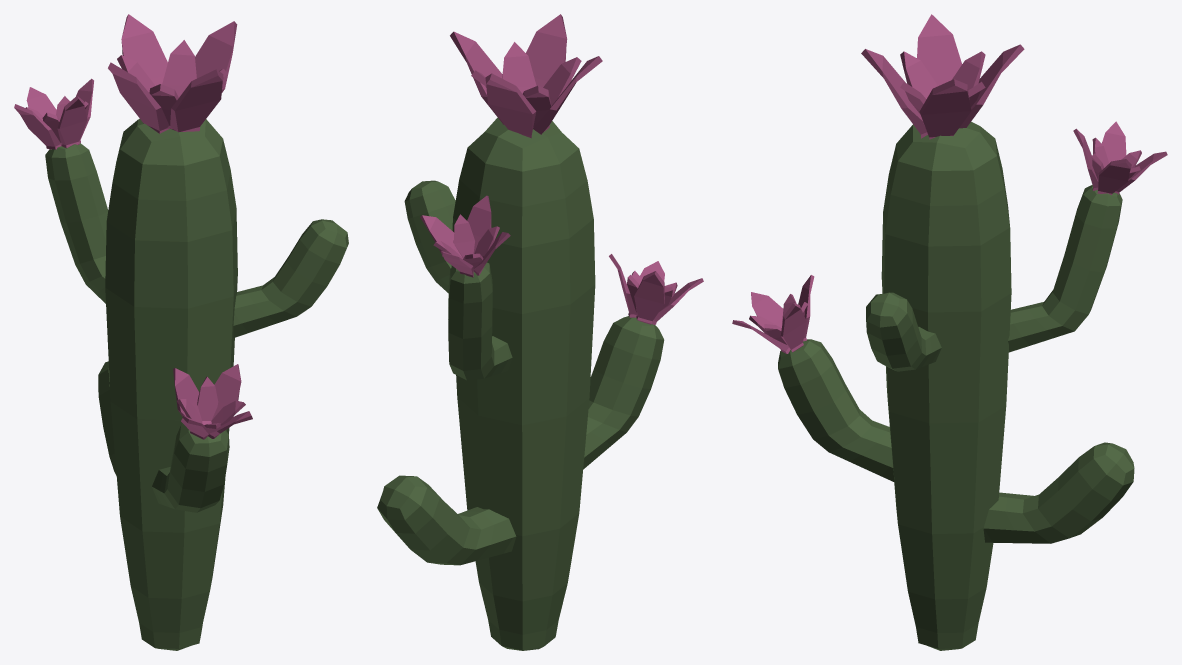
The model's file is Cactus_2.glb.
3 views of the same model, side by side, from view 1: azimuth 30°, elevation 25°; view 2: azimuth 150°, elevation 25°; view 3: azimuth 270°, elevation 25° (orthographic).
Visible parts, largest first — view 1: Cactus; view 2: Cactus; view 3: Cactus.
Part boxes in pixels (bbox=[...]): Cactus: bbox=[14, 14, 348, 650]; Cactus: bbox=[377, 14, 703, 650]; Cactus: bbox=[732, 14, 1167, 650].
Size of the model in its own units: 0.7654 by 1.94 by 1.28.
